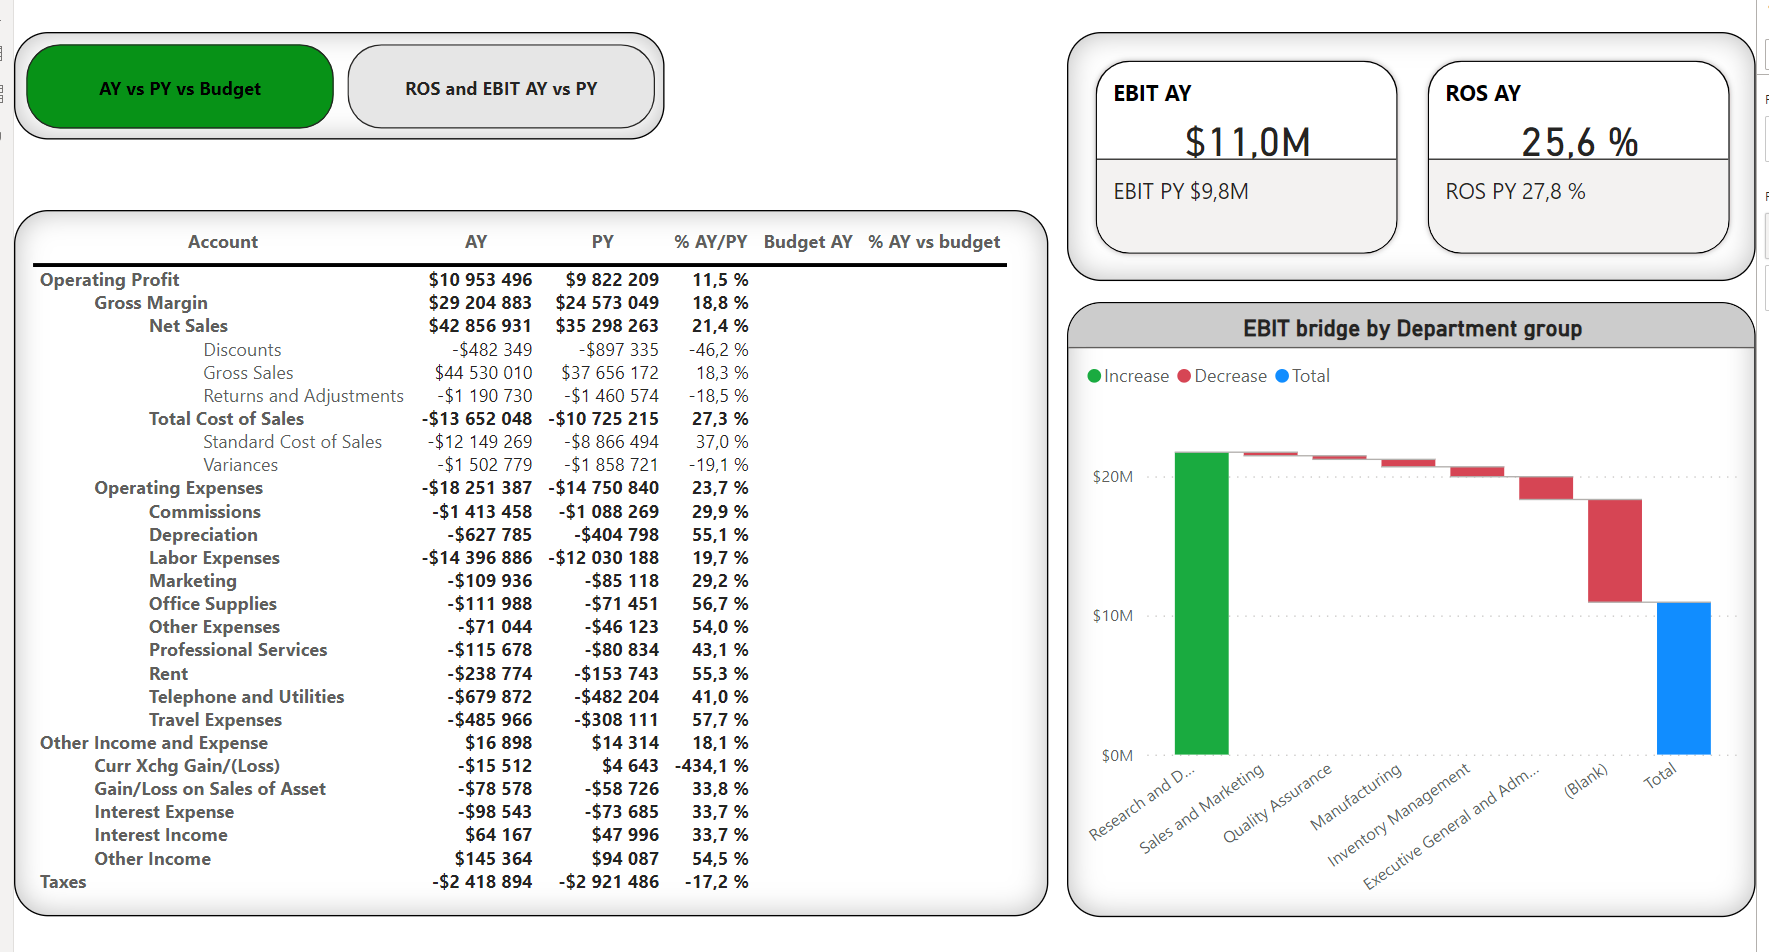

This screenshot's page, from the dashboard's own definition file:
{"tool":"powerbi","page":{"name":"AY vs PY vs Budget","canvas":[1280,720],"ordinal":0},"visuals":[{"type":"pivotTable","fields":{"Values":["Measure Table.Amount AY","Measure Table.Amount Actual PY","Measure Table.Variances AY-PY","Measure Table.Amount Budget AY","Measure Table.Variances Actual-Budget"],"Rows":["DimAccount.Account hierarchy.Level 2 name","DimAccount.Account hierarchy.Level 3 name","DimAccount.Account hierarchy.Level 4 name","DimAccount.Account hierarchy.Level 5 name","DimAccount.Account hierarchy.Level 6 name"]},"box":[0,158.7,759.8,519.5],"z":0},{"type":"cardVisual","fields":{"Data":["Measure Table.EBIT AY","Measure Table.ROS AY"]},"box":[773.7,27.9,506.3,183],"z":1000},{"type":"waterfallChart","title":"EBIT bridge by Department group","fields":{"Y":["Measure Table.EBIT AY"],"Category":["DimDepartmentGroup.Level 2 name"]},"box":[773.7,226.3,506.3,451.9],"z":2000},{"type":"pageNavigator","box":[0,27.9,478.3,78.6],"z":2001}]}

Visuals, with their boxes on the page's 1280x720 design canvas (x1, y1, x2, y2). These are canvas units, not pixel positions in the 1769x952 screenshot, which may show the page scaled, cropped or inside an application window:
pivotTable - Measure Table.Amount AY x Measure Table.Amount Actual PY: bbox=(0, 159, 760, 678)
cardVisual - Measure Table.EBIT AY x Measure Table.ROS AY: bbox=(774, 28, 1280, 211)
"EBIT bridge by Department group" waterfallChart: bbox=(774, 226, 1280, 678)
pageNavigator: bbox=(0, 28, 478, 106)
